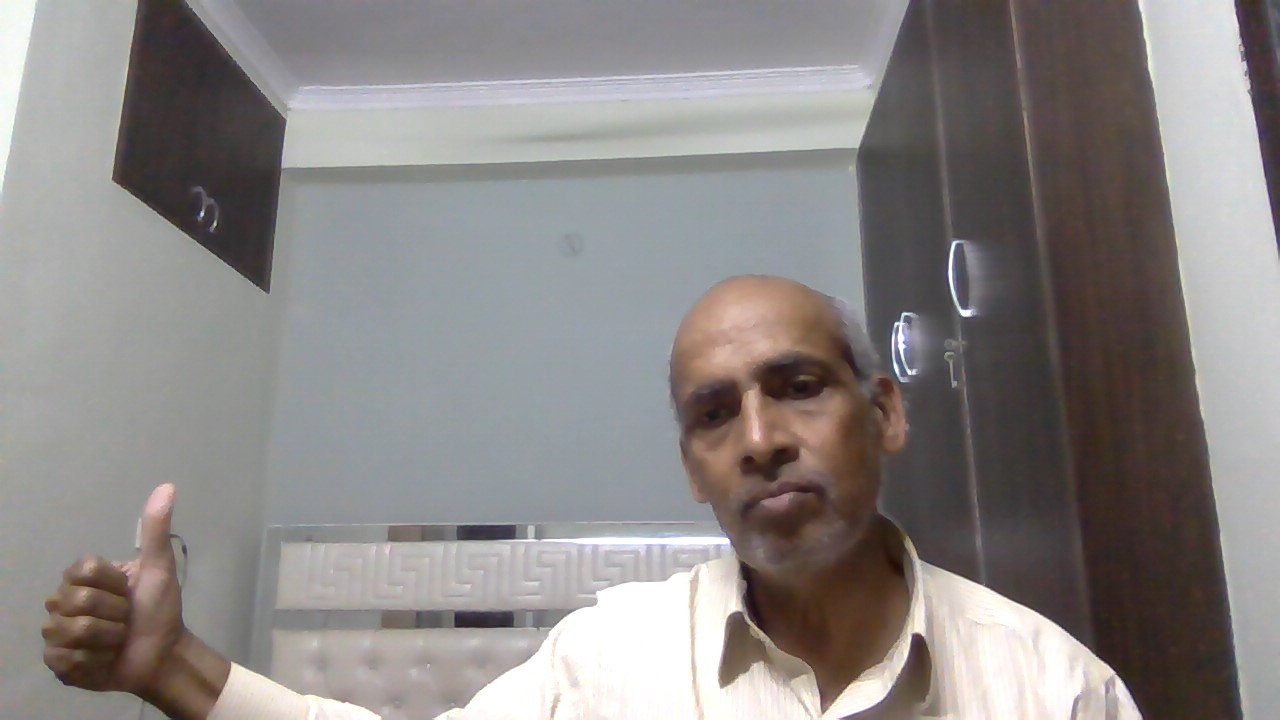Save: (31, 475, 194, 702)
